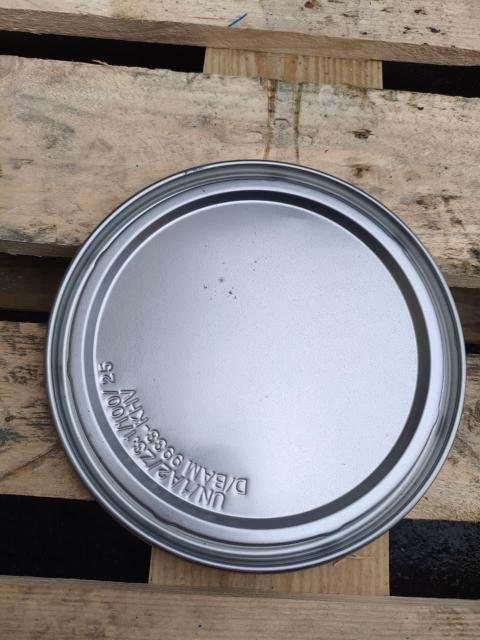Metal: (50, 158, 480, 563)
